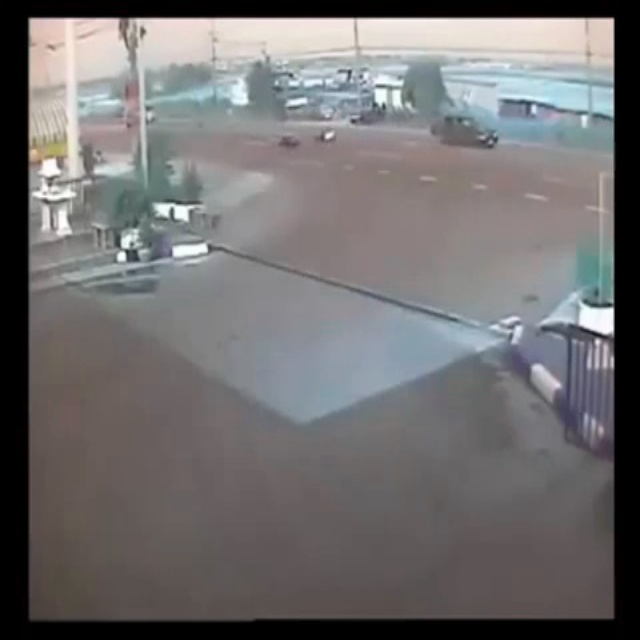acc: (275, 111, 502, 159)
